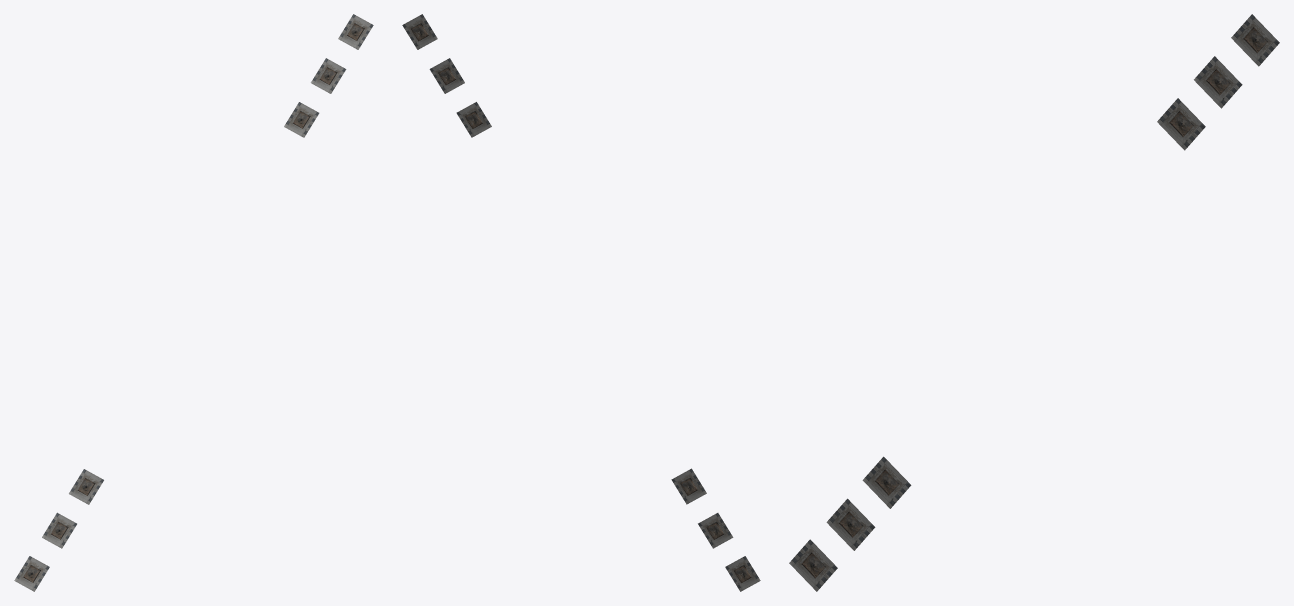
File: baylands_bord.glb
The picture shows the model from 3 angles, left to right: view 1: azimuth 30°, elevation 25°; view 2: azimuth 150°, elevation 25°; view 3: azimuth 330°, elevation 25°; orthographic projection. The views are drawn at different scales.
Parts seen in each view (by area): view 1: Bord, Bord.001, Bord.002, Bord.003, Bord.004, Bord.005; view 2: Bord, Bord.001, Bord.003, Bord.005, Bord.002, Bord.004; view 3: Bord.003, Bord, Bord.005, Bord.001, Bord.002, Bord.004.
Boxes of the visible parts, left/top/right/bottom form: Bord: left=284, top=102, right=319, bottom=137; Bord.001: left=311, top=58, right=346, bottom=93; Bord.002: left=338, top=14, right=373, bottom=49; Bord.003: left=69, top=469, right=103, bottom=504; Bord.004: left=42, top=512, right=76, bottom=548; Bord.005: left=14, top=556, right=49, bottom=591; Bord: left=456, top=102, right=491, bottom=137; Bord.001: left=429, top=58, right=464, bottom=93; Bord.003: left=671, top=468, right=706, bottom=504; Bord.005: left=725, top=556, right=760, bottom=591; Bord.002: left=402, top=14, right=437, bottom=49; Bord.004: left=698, top=513, right=733, bottom=548; Bord.003: left=862, top=456, right=911, bottom=508; Bord: left=1157, top=98, right=1205, bottom=150; Bord.005: left=789, top=539, right=837, bottom=591; Bord.001: left=1194, top=56, right=1242, bottom=108; Bord.002: left=1231, top=14, right=1279, bottom=66; Bord.004: left=826, top=498, right=875, bottom=550.
Bounding box in the file's own units: 35.86 × 47.76 × 0.2489.
1 material, 1 textured.
